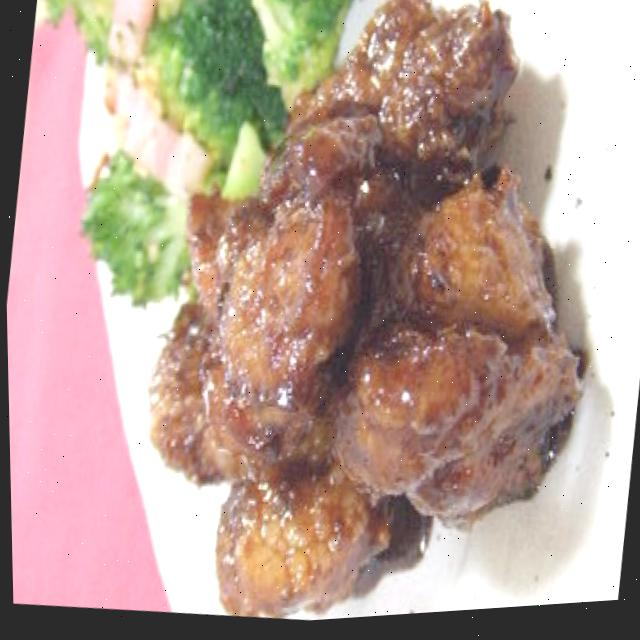鸡肉料理 含炸鸡: (138, 0, 640, 633)
